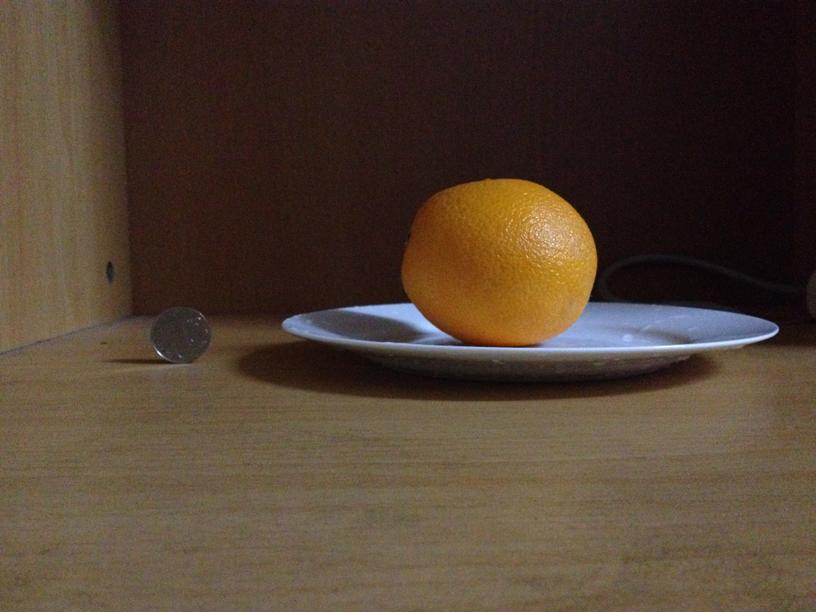coin: (149, 306, 212, 363)
orange: (407, 178, 596, 344)
